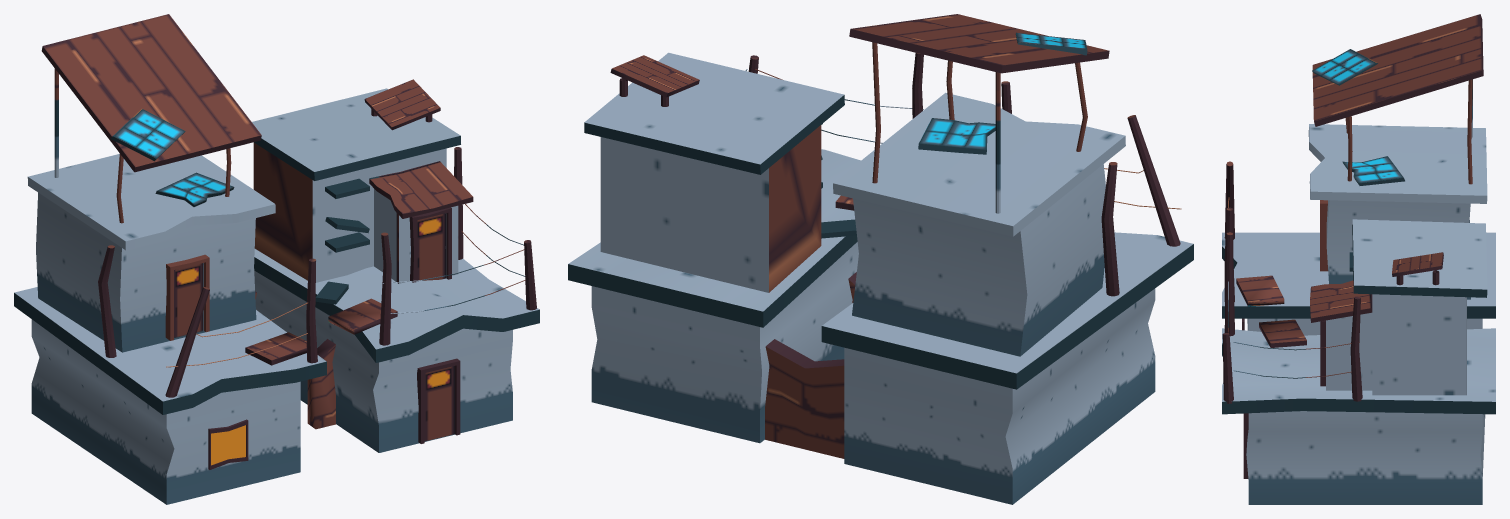
File: Casa7_Quebrada.fbx
3 views of the same model, side by side, from view 1: azimuth 30°, elevation 25°; view 2: azimuth 150°, elevation 25°; view 3: azimuth 270°, elevation 25° (orthographic). The views are drawn at different scales.
Parts seen in each view (by area): view 1: Casa7; view 2: Casa7; view 3: Casa7.
Part boxes in pixels (x1,y1,x2,y2): Casa7: [14, 14, 539, 504]; Casa7: [568, 14, 1193, 504]; Casa7: [1222, 14, 1495, 504].
Size of the model in its own units: 986 by 673 by 915.
